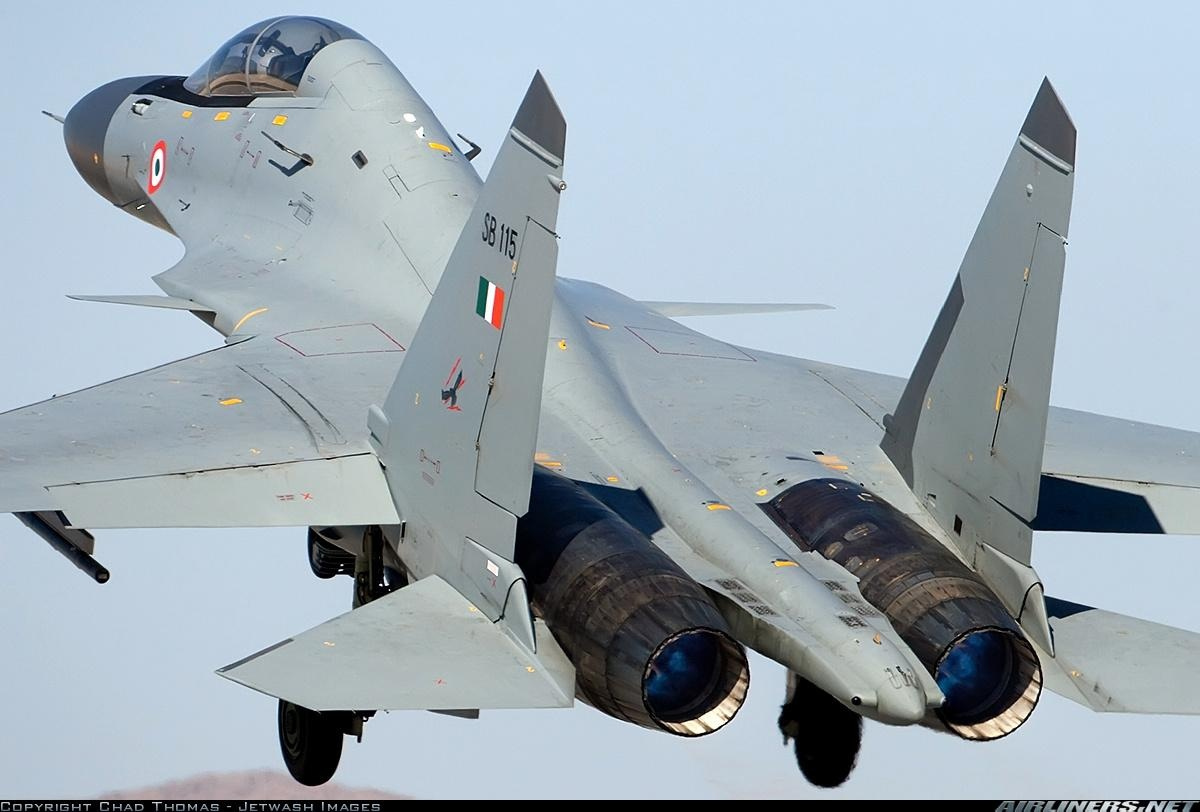aircraft: (13, 22, 1184, 776)
